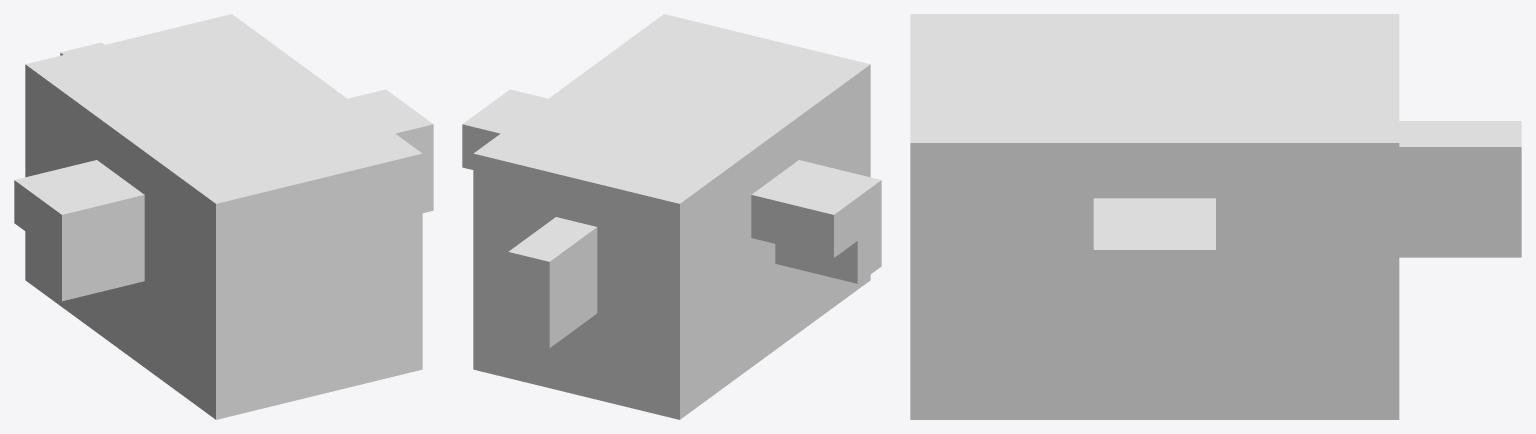
The model's file is Chicken_Body.fbx.
3 views of the same model, side by side, from view 1: azimuth 30°, elevation 25°; view 2: azimuth 150°, elevation 25°; view 3: azimuth 270°, elevation 25° (orthographic). The views are drawn at different scales.
Parts seen in each view (by area): view 1: Chicken_Body; view 2: Chicken_Body; view 3: Chicken_Body.
Part boxes in pixels (x1,y1,x2,y2): Chicken_Body: [14, 14, 433, 419]; Chicken_Body: [462, 14, 881, 419]; Chicken_Body: [910, 14, 1521, 419].
Bounding box in the file's own units: 90 × 50 × 100.
